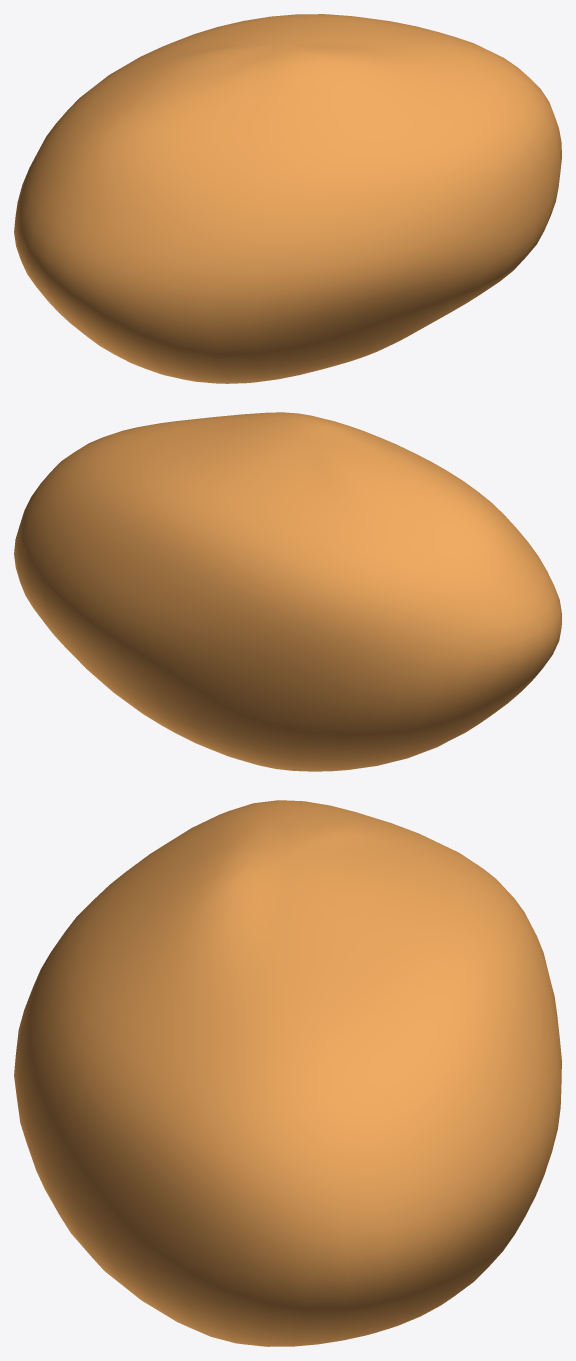
The model's file is Camote.fbx.
The picture shows the model from 3 angles, top to bottom: view 1: azimuth 30°, elevation 25°; view 2: azimuth 150°, elevation 25°; view 3: azimuth 270°, elevation 25°; orthographic projection. The views are drawn at different scales.
Visible parts, largest first — view 1: Camote; view 2: Camote; view 3: Camote.
Boxes of the visible parts, box(x1,y1,x2,y2) form: Camote: box(14, 14, 561, 383); Camote: box(14, 412, 561, 771); Camote: box(14, 800, 561, 1346).
Size of the model in its own units: 91.84 by 53.69 by 60.45.
